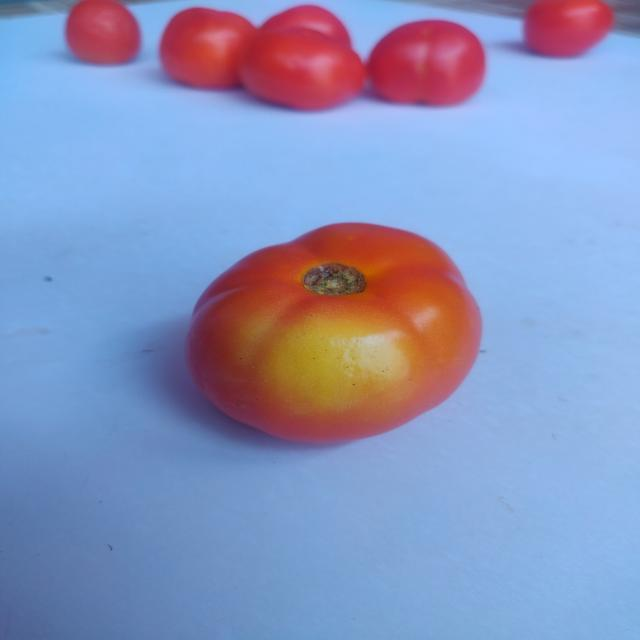Tomato: (176, 213, 514, 464)
